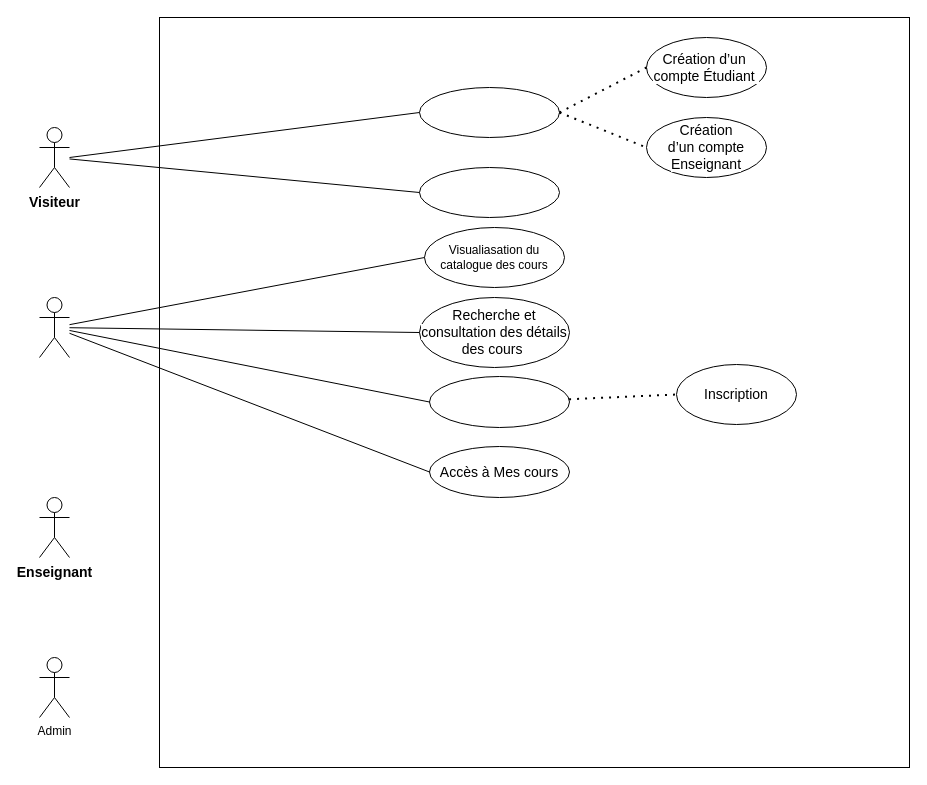
This 927x785 diagram has some shape labels left out. Each missing label, with the centre of its shape:
Login: the point at 499,402
Recherche de cours: the point at 489,192
Regester: the point at 489,112
Étudiant: the point at 54,327
